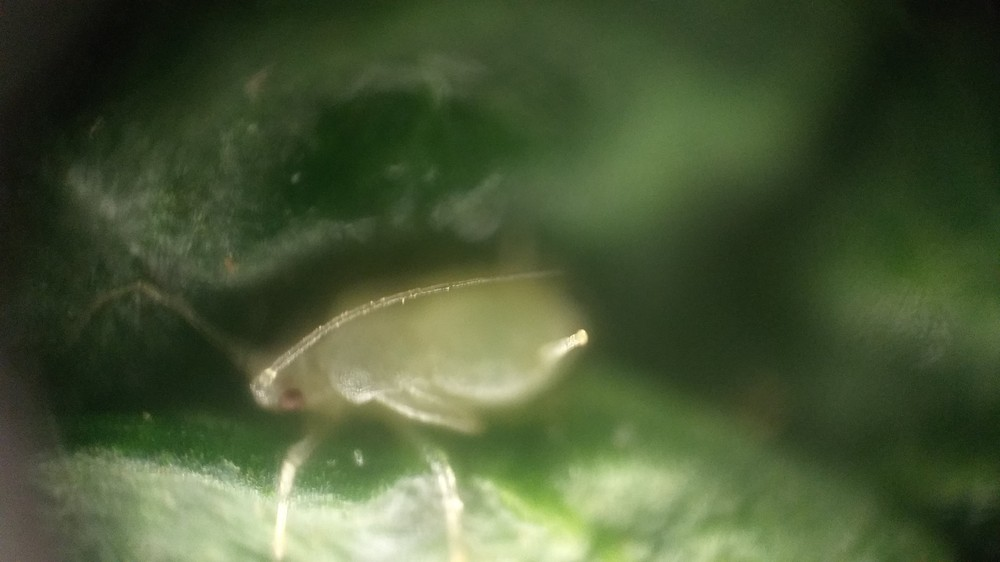Pulgon: (111, 212, 671, 562)
